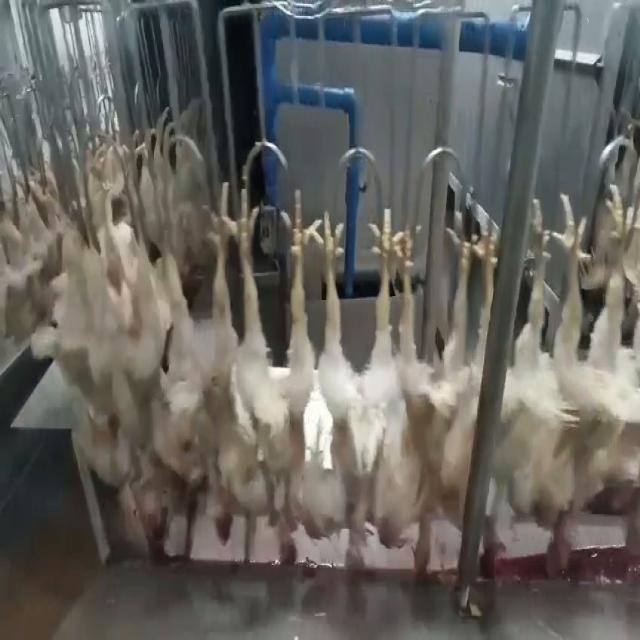chicken: (380, 214, 490, 588), (233, 186, 319, 572), (506, 183, 586, 582), (319, 212, 392, 584), (96, 175, 165, 554), (164, 171, 230, 547), (579, 178, 639, 506)
